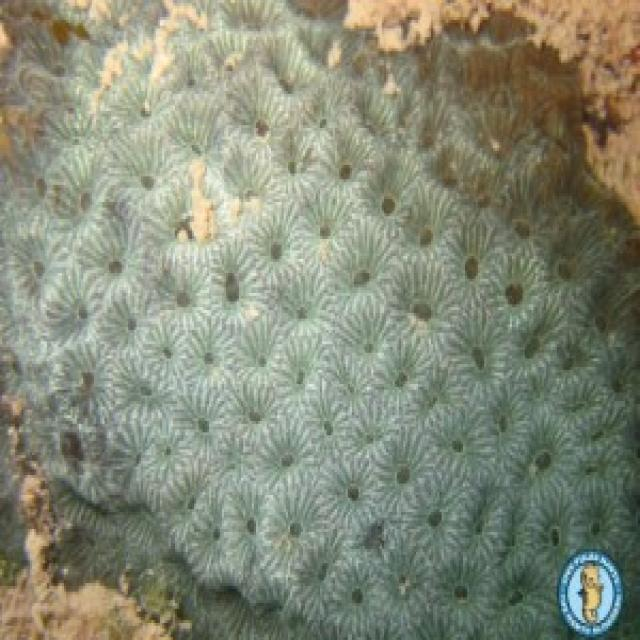Bleached: (1, 1, 639, 638)
